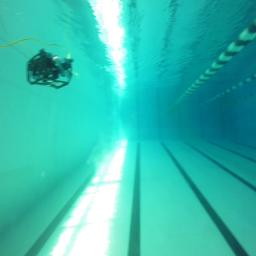Side: (27, 48, 74, 90)
